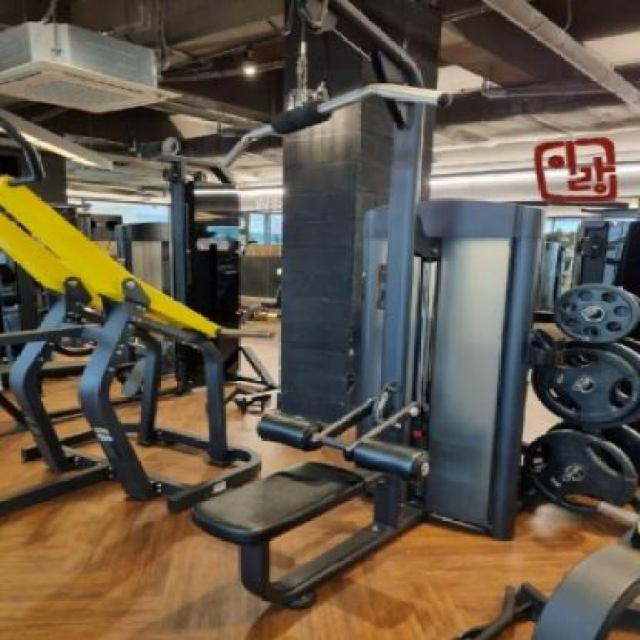Lat Pull Down: (95, 0, 546, 618)
